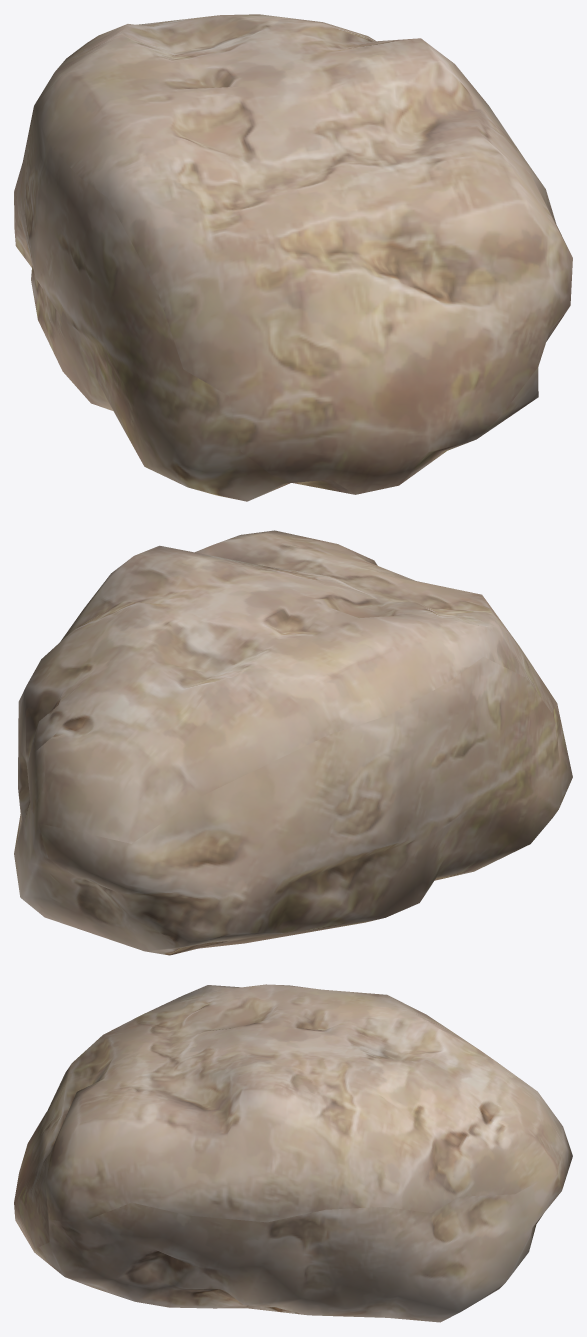
The model's file is Stone_02.FBX.
3 views of the same model, one above another, from view 1: azimuth 30°, elevation 25°; view 2: azimuth 150°, elevation 25°; view 3: azimuth 270°, elevation 25° (orthographic). The views are drawn at different scales.
Parts seen in each view (by area): view 1: Stone_02_LOD0; view 2: Stone_02_LOD0; view 3: Stone_02_LOD0.
Part boxes in pixels (<box>): Stone_02_LOD0: <box>14,14,572,501</box>; Stone_02_LOD0: <box>14,530,572,955</box>; Stone_02_LOD0: <box>14,984,572,1322</box>.
Size of what is drawn, in the model's own units: 0.6024 by 0.4343 by 0.873.
